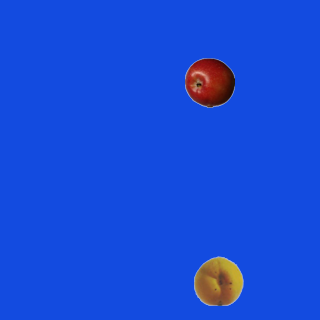Apple Braeburn: (184, 57, 234, 107)
Peach 2: (193, 255, 243, 305)
